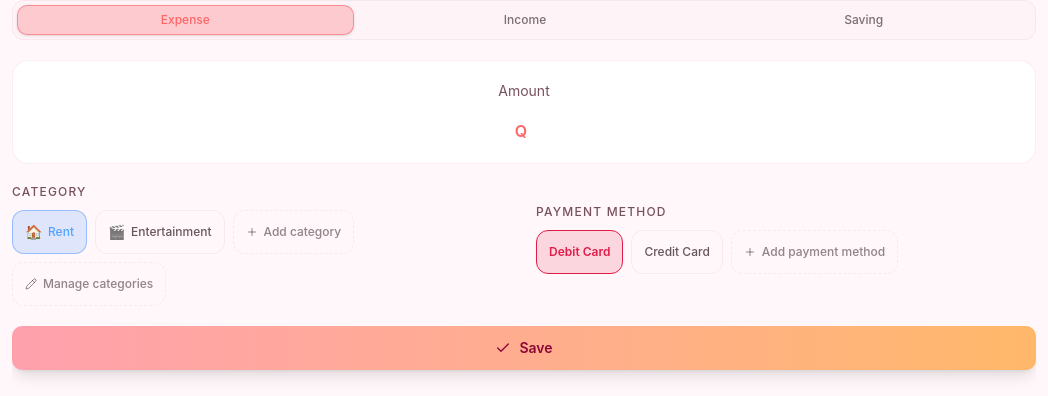
Test: TransactionForm type tabs › shows every income and savings category and allows adding another one
The width and height of the screenshot is (1048, 396).
Click the button "Income": {"x": 525, "y": 20} [358,5,692,35]
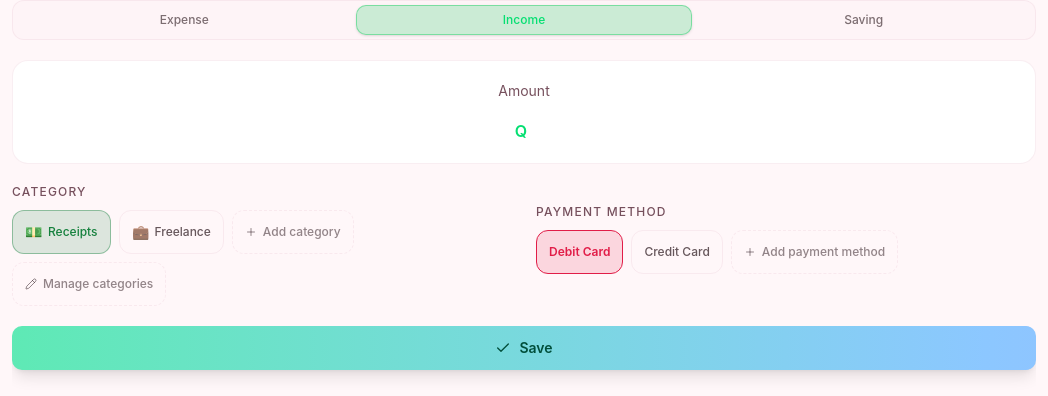
Expected: the text "Receipts" is shown, [48,224,98,240]
Expected: the text "Freelance" is shown, [154,224,211,240]
Expected: the button "Rent" is gone
Click the button "Saving": {"x": 864, "y": 20} [696,5,1031,35]
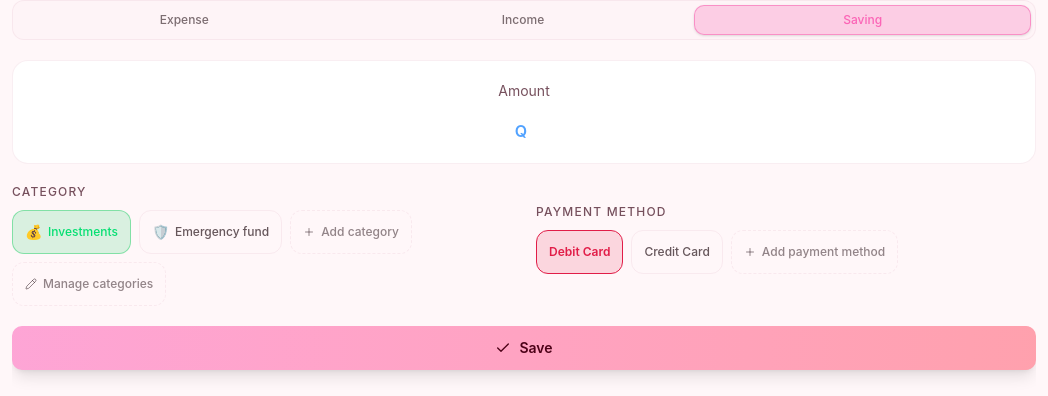
Expected: the text "Investments" is shown, [48,224,118,240]
Expected: the text "Emergency fund" is shown, [175,224,269,240]
Expected: the button "Receipts" is gone
Click the button "Expense": {"x": 184, "y": 20} [17,5,352,35]
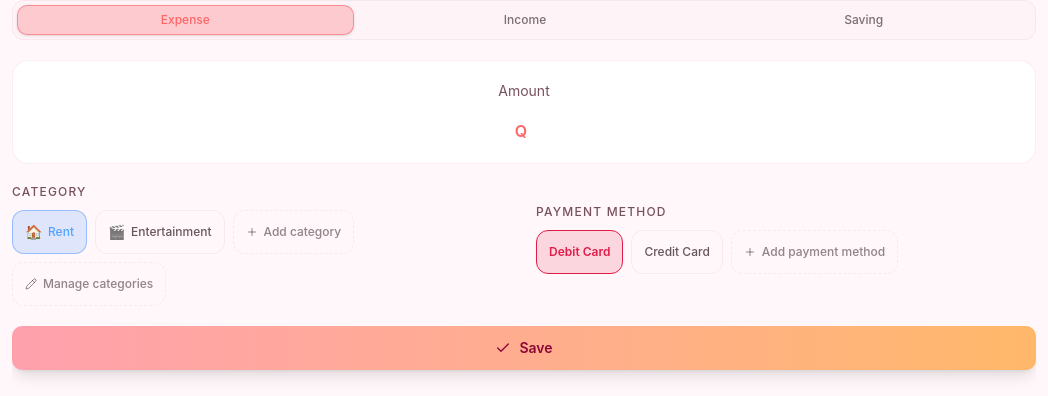
Expected: the button "Add category" is shown, [232,210,354,254]
Expected: the text "Rent" is shown, [48,224,74,240]
Expected: the text "Entertainment" is shown, [131,224,212,240]
